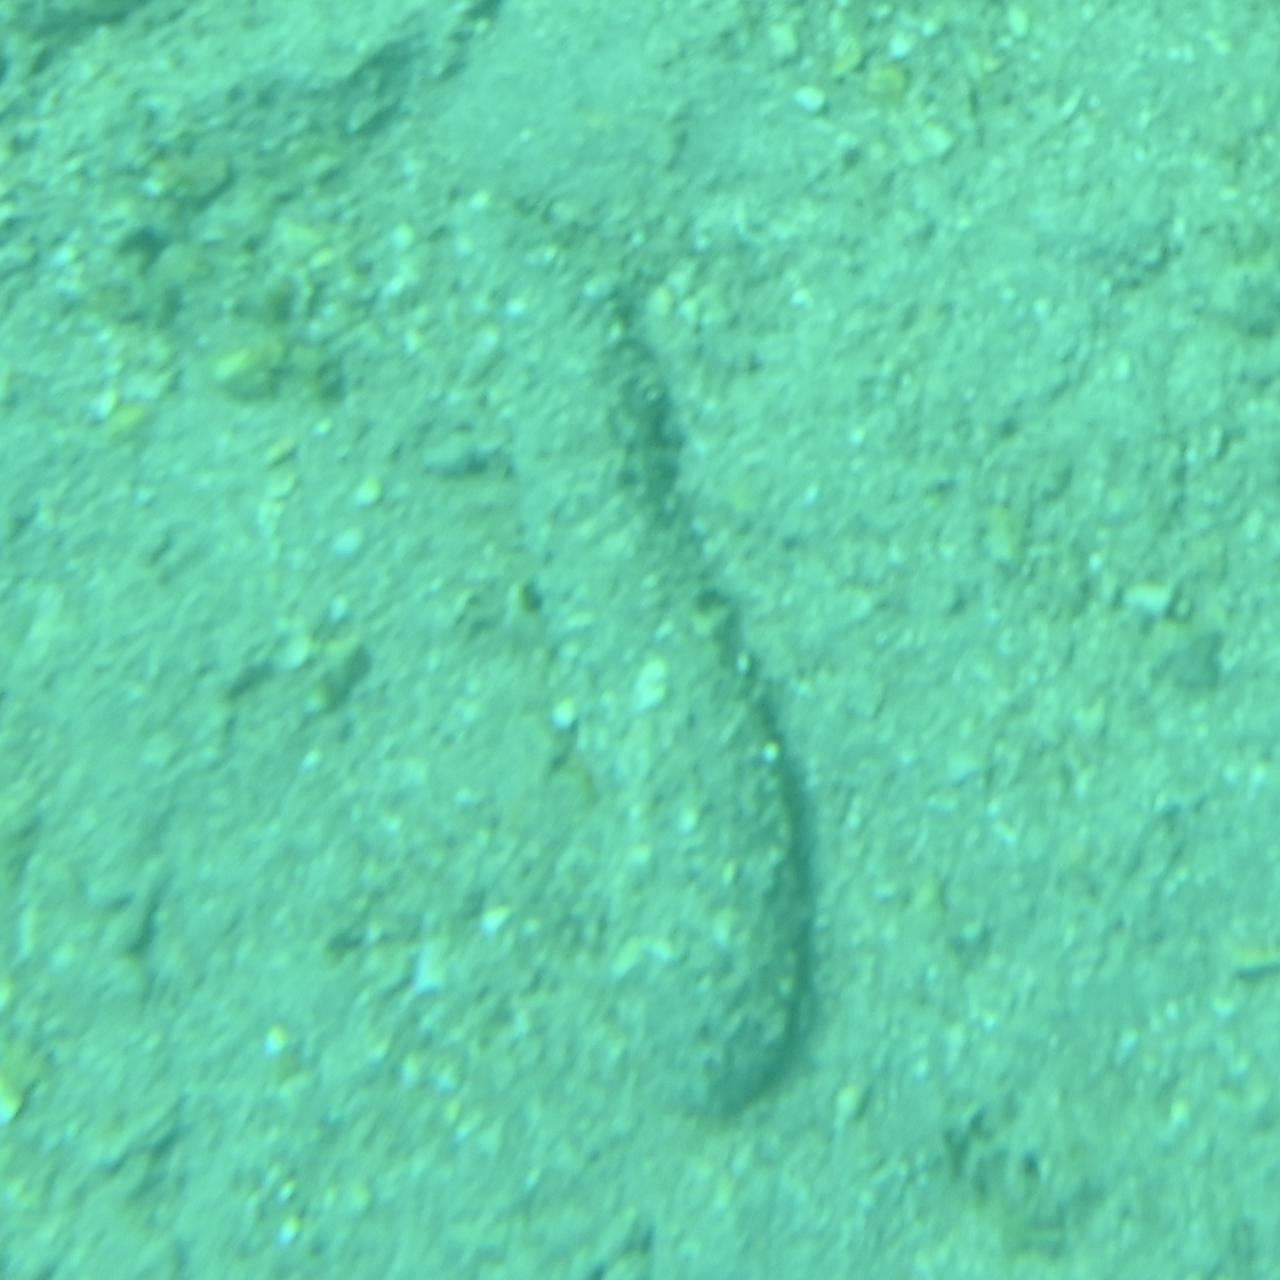Holothuria tubulosa: (420, 196, 860, 1145)
